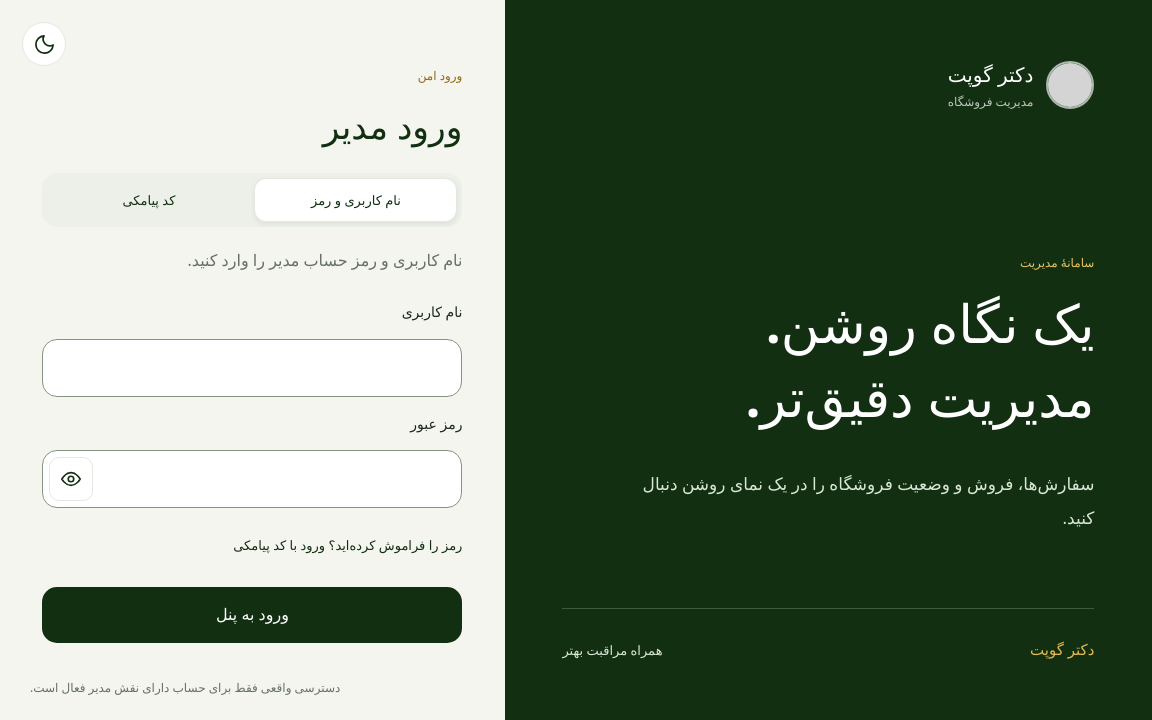
Test: keeps a rejected administrator phone on the request step without starting verification
Click the button "کد پیامکی".
click(149, 200)  # box [47, 178, 250, 222]
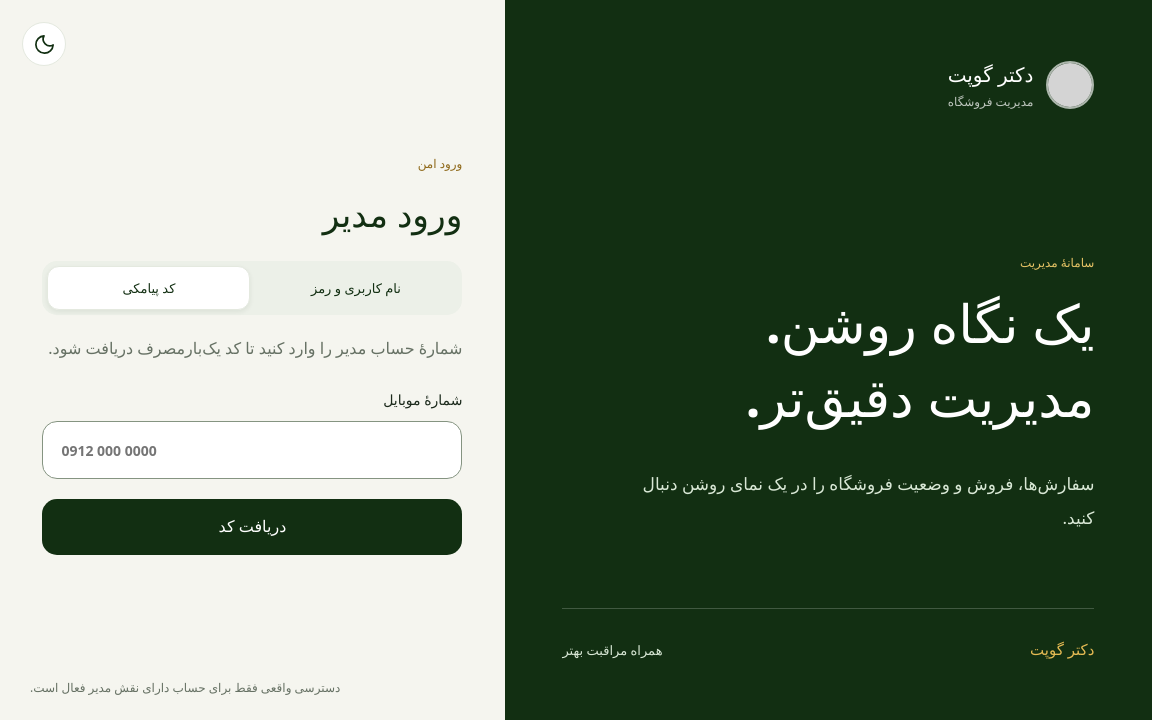
Type "۰۹۱۲۰۰۰۰۰۰۰" into the field labelled "شمارهٔ موبایل".
click(252, 450); type("۰۹۱۲۰۰۰۰۰۰۰")  # box [42, 422, 462, 480]
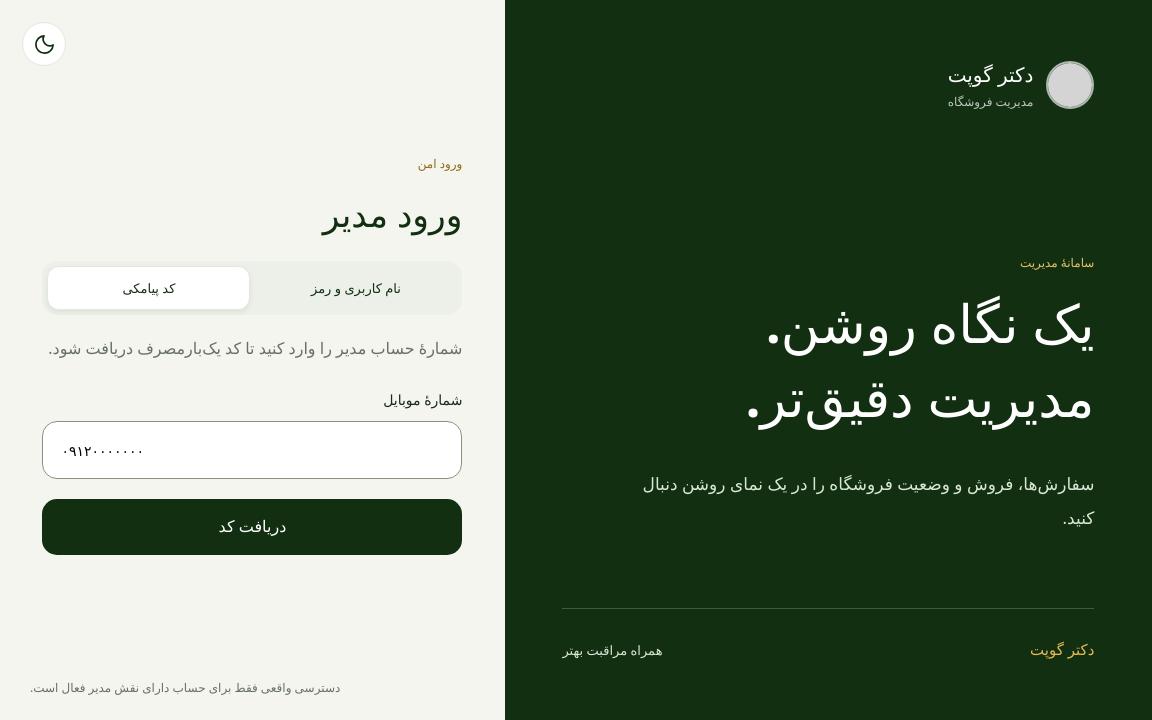
Click the button "دریافت کد".
click(252, 527)  # box [42, 500, 462, 555]
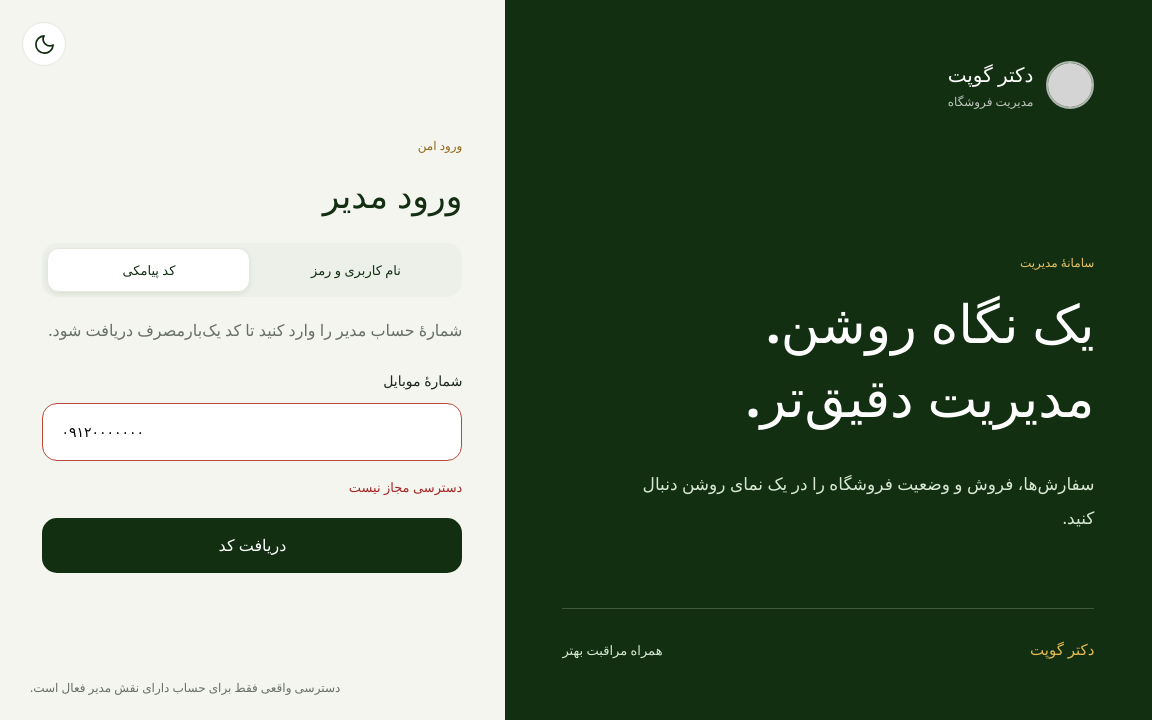
Expected: the button "دریافت کد" is enabled, [42, 518, 462, 573]
Now the message reads "دسترسی مجاز نیست", box [349, 478, 462, 496]
